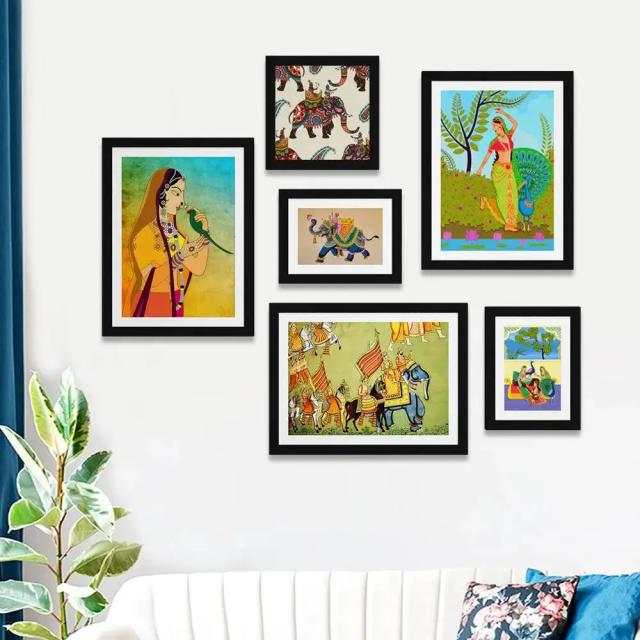painting: (269, 301, 470, 454), (422, 69, 574, 269), (103, 138, 254, 337), (264, 56, 379, 170), (485, 305, 580, 430), (279, 188, 402, 284)
